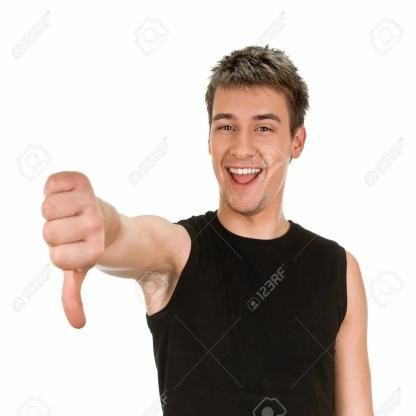Thumbs-Down: (41, 170, 106, 330)
